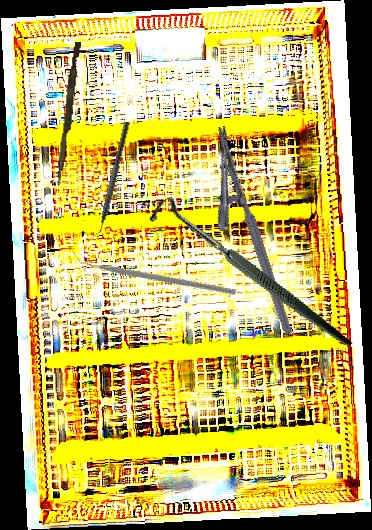Chopper: (71, 200, 238, 344), (88, 119, 131, 243)
Hook Surgical: (143, 153, 353, 400)
Needle Holder: (187, 124, 295, 345)
Pusher: (55, 41, 82, 187)
